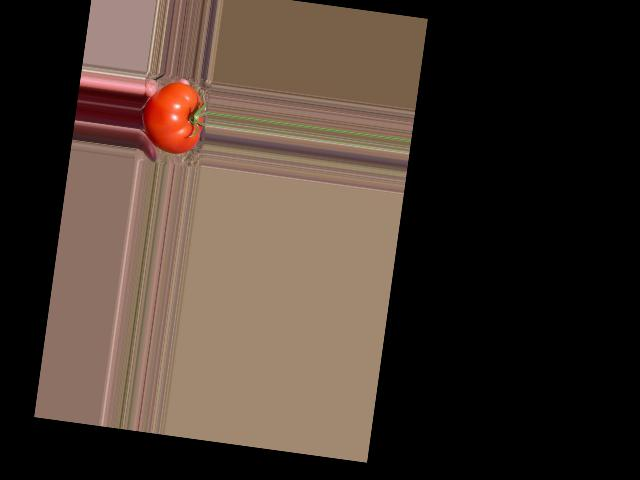tomato: (138, 78, 207, 155)
